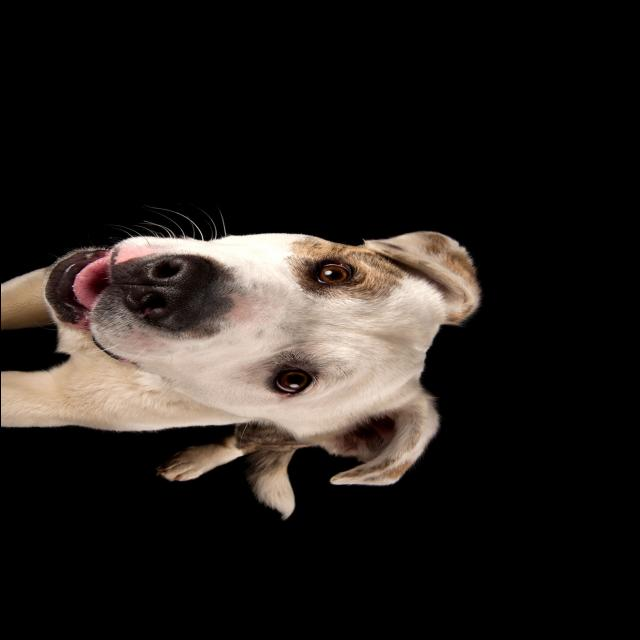dog: (1, 208, 504, 520)
